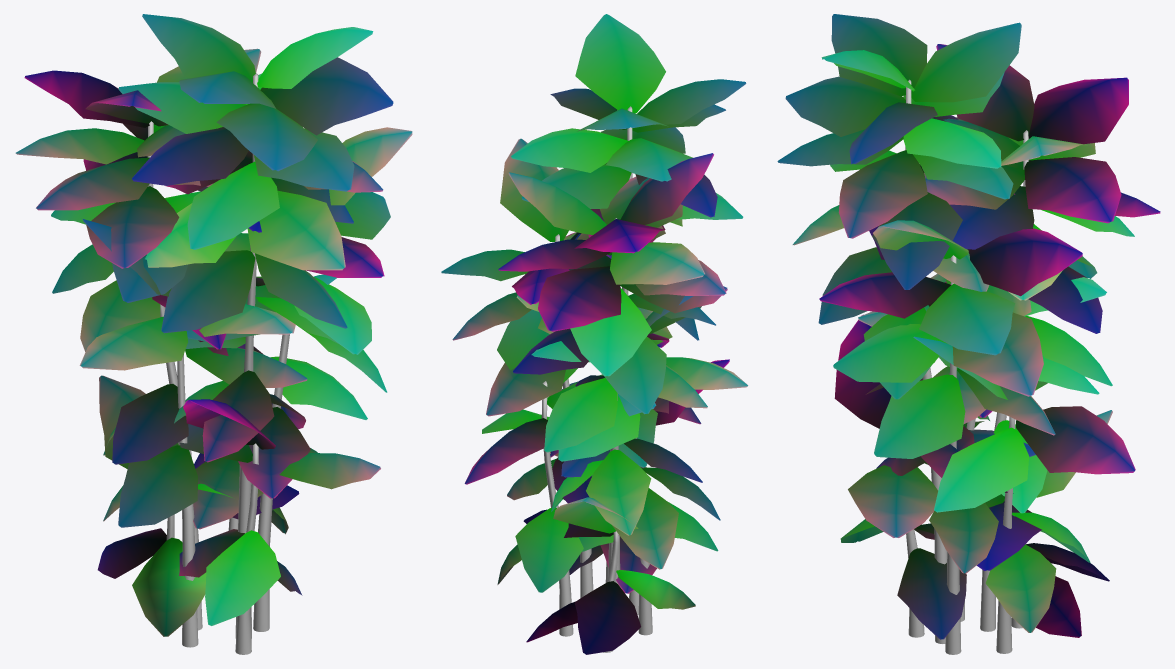
The model's file is bamboo.fbx.
3 views of the same model, side by side, from view 1: azimuth 30°, elevation 25°; view 2: azimuth 150°, elevation 25°; view 3: azimuth 270°, elevation 25° (orthographic). The views are drawn at different scales.
Parts seen in each view (by area): view 1: Tree_1, Tree_0; view 2: Tree_1, Tree_0; view 3: Tree_1, Tree_0.
Boxes of the visible parts, x1,y1,x2,y2 form: Tree_1: (15,14,412,636); Tree_0: (147,73,289,654); Tree_1: (441,14,748,654); Tree_0: (541,106,652,652); Tree_1: (777,14,1160,639); Tree_0: (905,79,1028,654).
Size of the model in its own units: 245 by 440 by 249.
